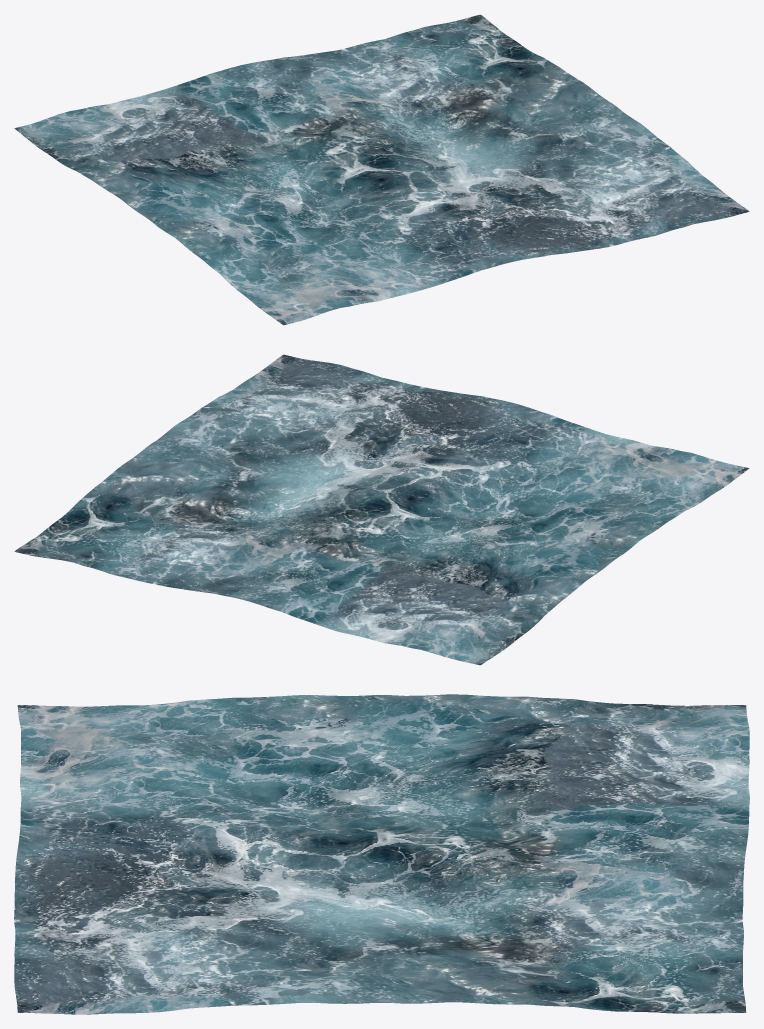
The model's file is ocean.obj.
3 renders of one model, top to bottom at view 1: azimuth 30°, elevation 25°; view 2: azimuth 150°, elevation 25°; view 3: azimuth 270°, elevation 25°, orthographic. The views are drawn at different scales.
Visible parts, largest first — view 1: Plane; view 2: Plane; view 3: Plane.
Boxes of the visible parts, left/top/right/bottom form: Plane: left=14, top=14, right=749, bottom=325; Plane: left=14, top=354, right=749, bottom=665; Plane: left=14, top=694, right=749, bottom=1014.
Bounding box in the file's own units: 405 × 12.48 × 408.
Materials: 1 (1 with a texture image).
